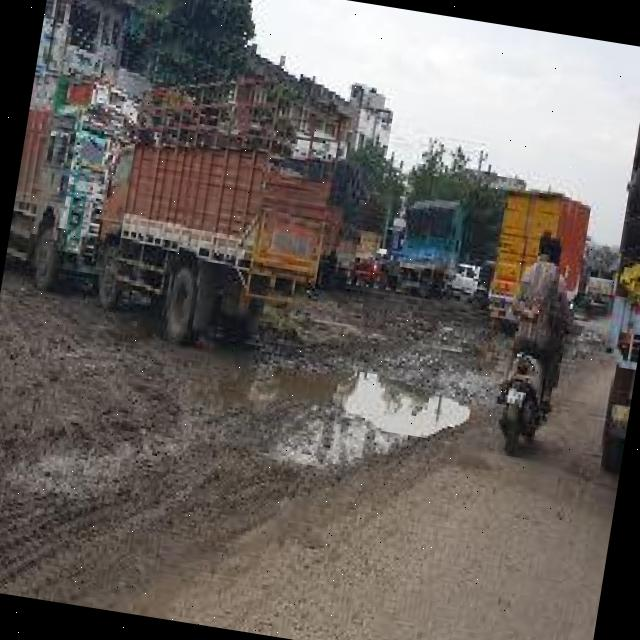waterlogging: (308, 362, 482, 453)
